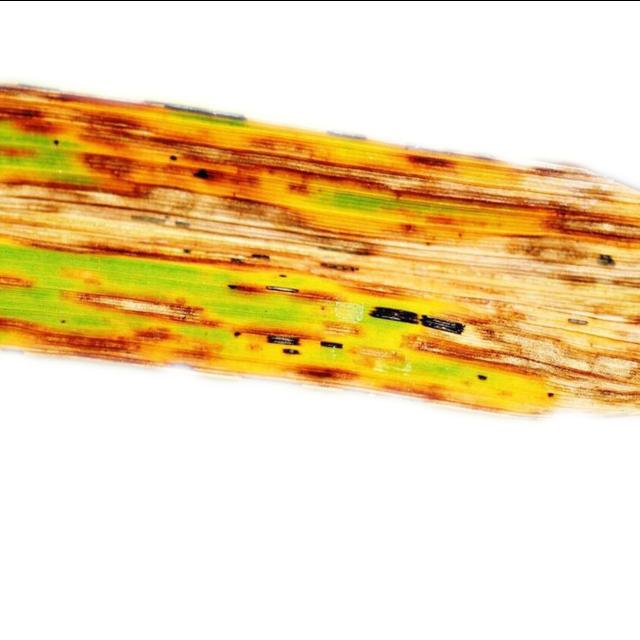Narrow brown: (0, 61, 640, 434)
